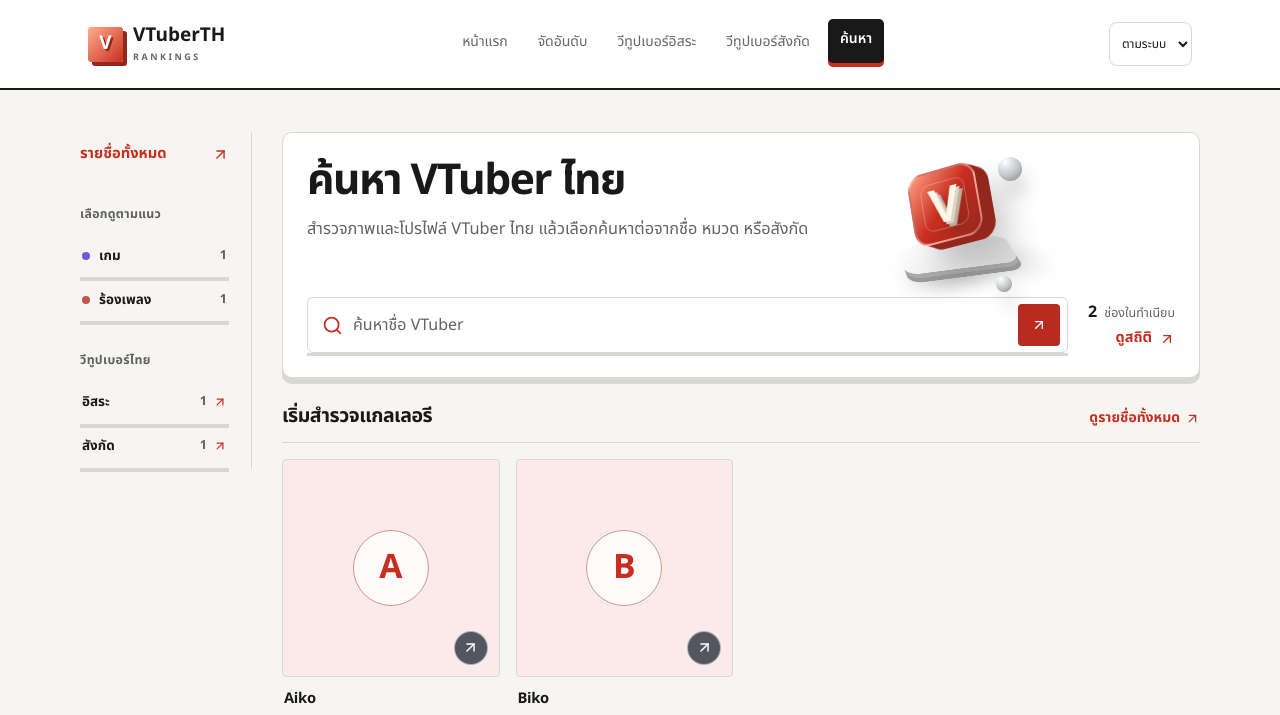
it: Public discovery Home › reaches the statistics experience from the discovery Home
What coordinates should you click on to do the following:
click the link with class "discovery-stats-link"
I would click on:
 (1145, 339)
Its box is x1=1115 y1=328 x2=1175 y2=350.
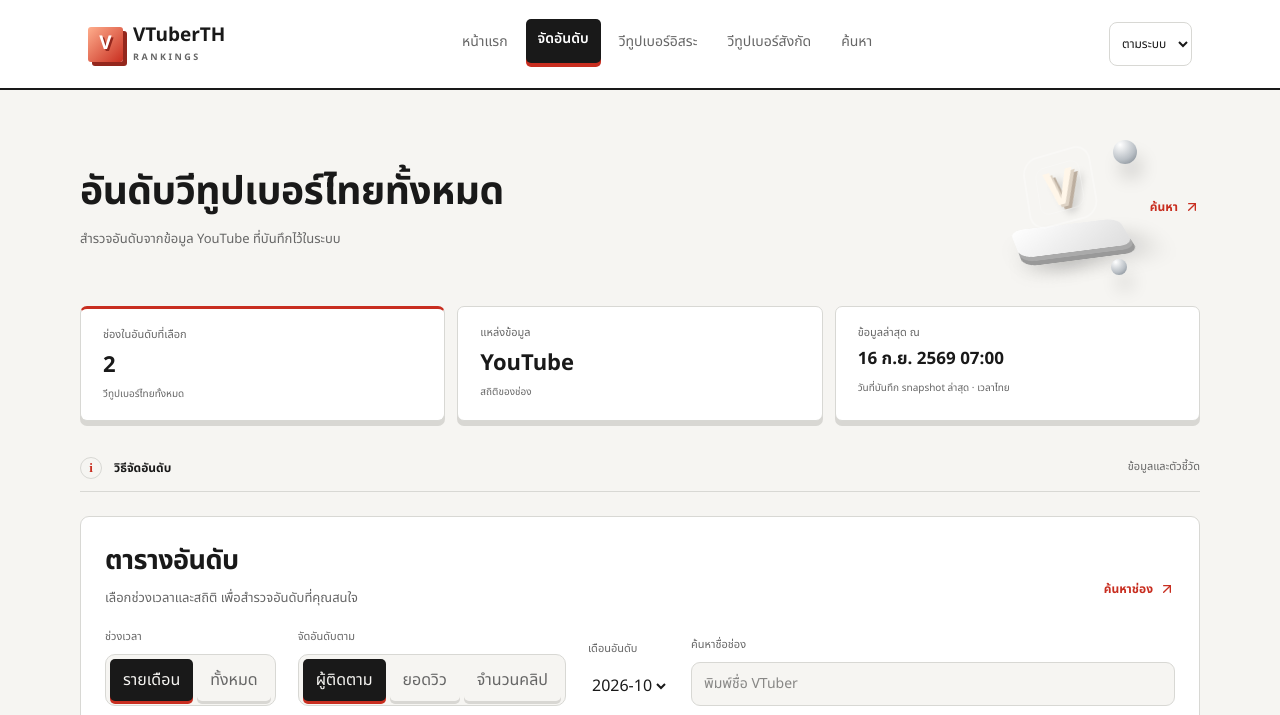
Now the heading "อันดับวีทูปเบอร์ไทยทั้งหมด" is shown, box x1=80 y1=164 x2=504 y2=222
